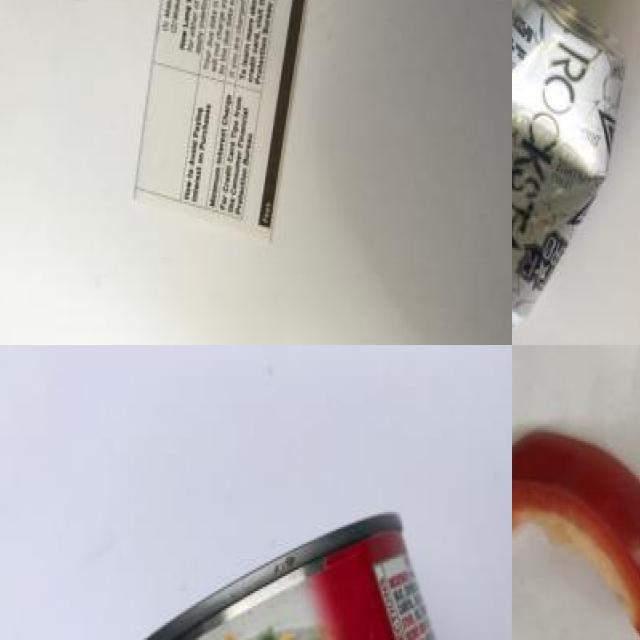compost: (512, 389, 640, 640)
paper: (119, 0, 363, 227)
plastic: (131, 528, 512, 640), (512, 0, 628, 332)
